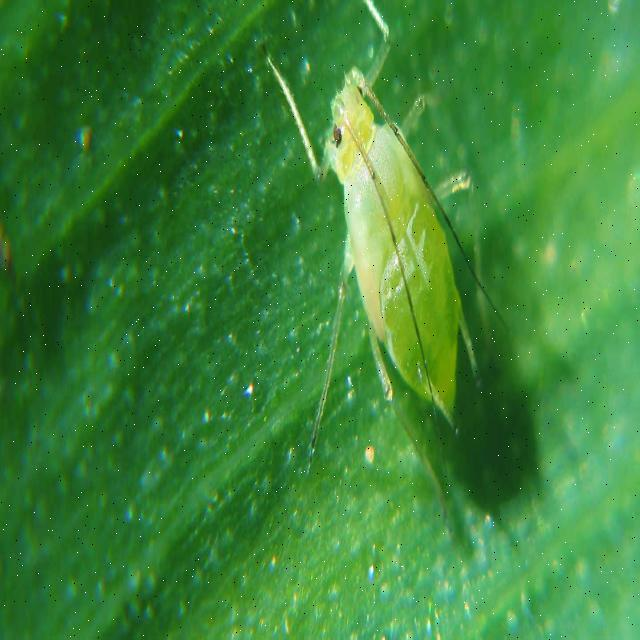Aphids: (252, 18, 521, 518)
